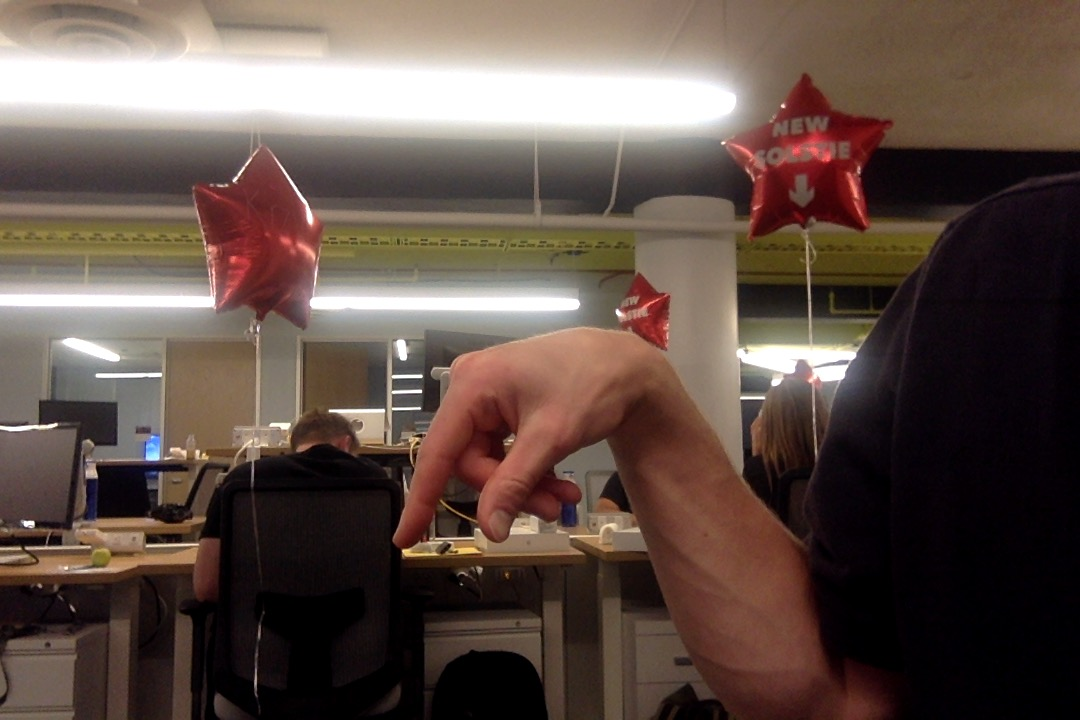u: (387, 317, 688, 556)
